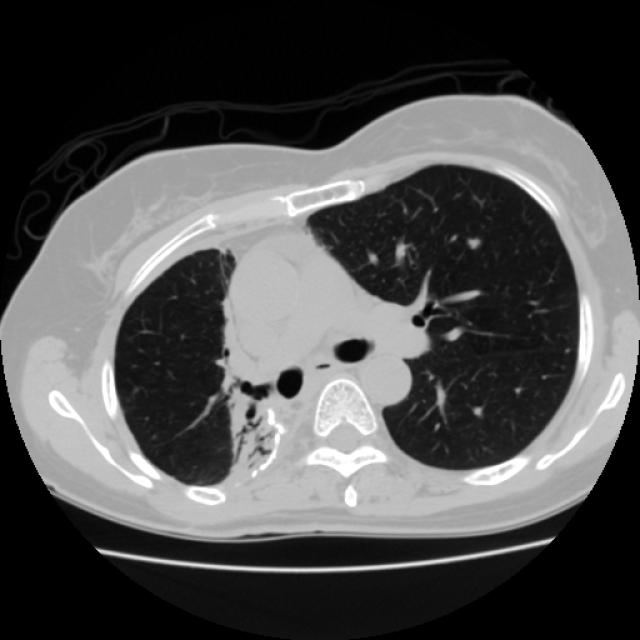nodule: (456, 225, 489, 257)
